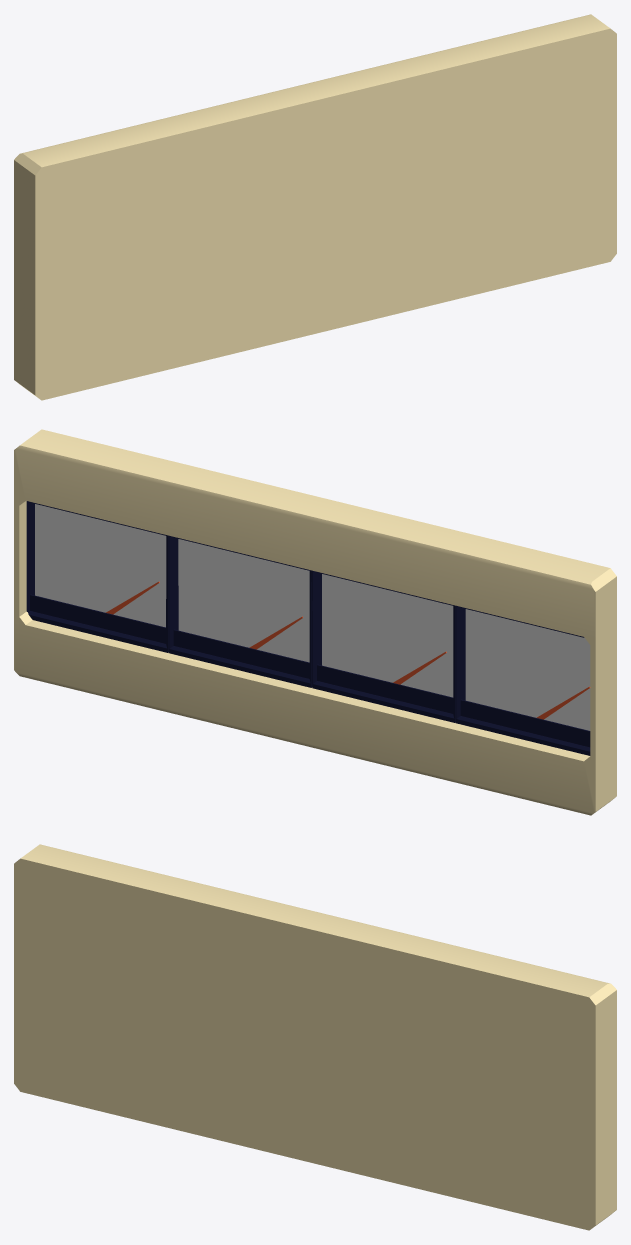
The model's file is SM_Life_Bar_Mania.fbx.
3 renders of one model, top to bottom at view 1: azimuth 30°, elevation 25°; view 2: azimuth 150°, elevation 25°; view 3: azimuth 330°, elevation 25°, orthographic.
Visible parts, largest first — view 1: Box126; view 2: Box126, Box123, Box124, Box122, Box125; view 3: Box126.
Boxes of the visible parts, x1,y1,x2,y2 form: Box126: [14, 14, 616, 400]; Box126: [14, 429, 616, 815]; Box123: [168, 535, 312, 687]; Box124: [312, 570, 455, 722]; Box122: [26, 501, 168, 652]; Box125: [455, 605, 590, 755]; Box126: [14, 844, 616, 1230].
Size of the model in its own units: 824 by 316 by 52.46.
